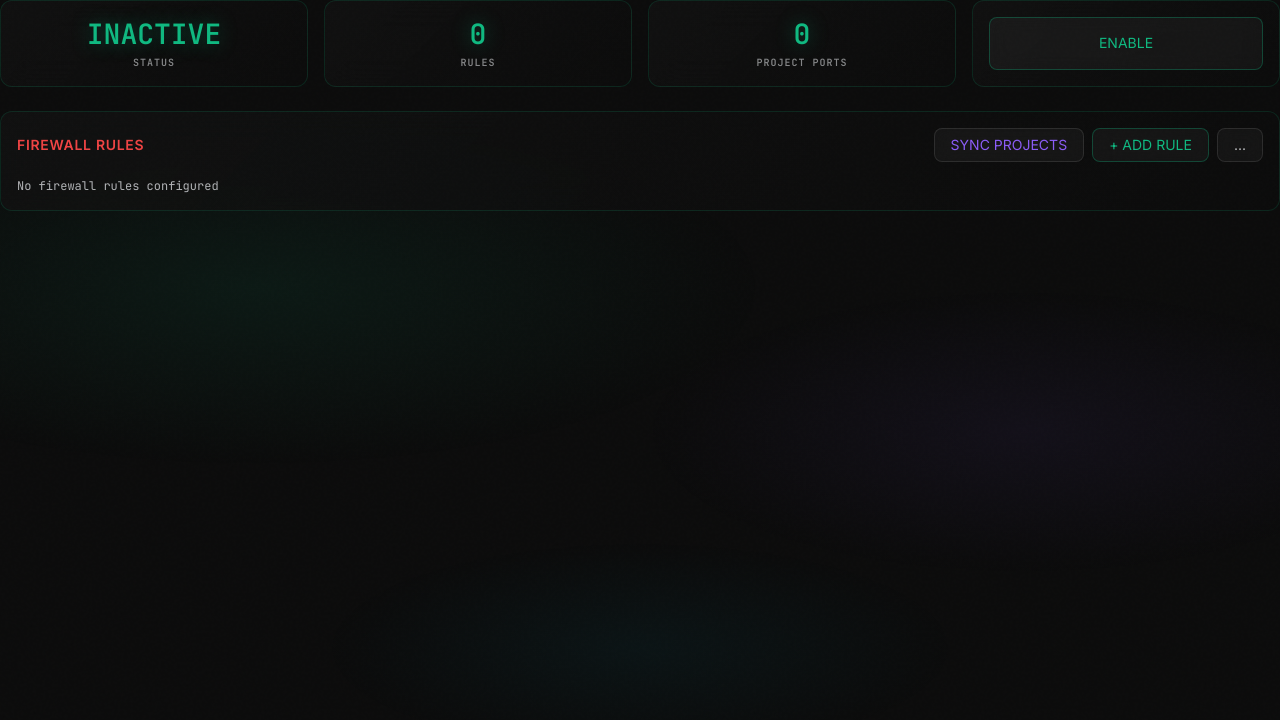
Test: FirewallPane › sync project ports › should show success message with summary
Click the button "SYNC PROJECTS" at [1009, 145], box left=934, top=128, right=1084, bottom=162
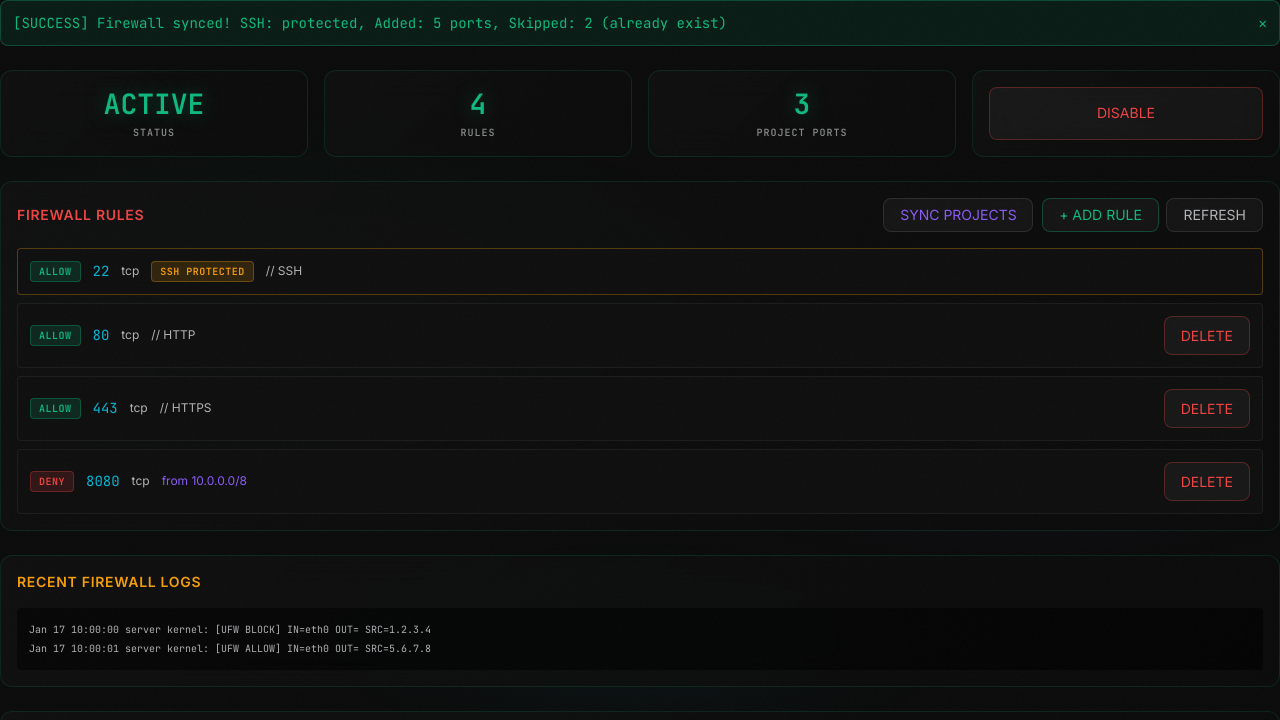
expect the text "Added: 5 ports" is shown: met, box left=97, top=14, right=727, bottom=32
